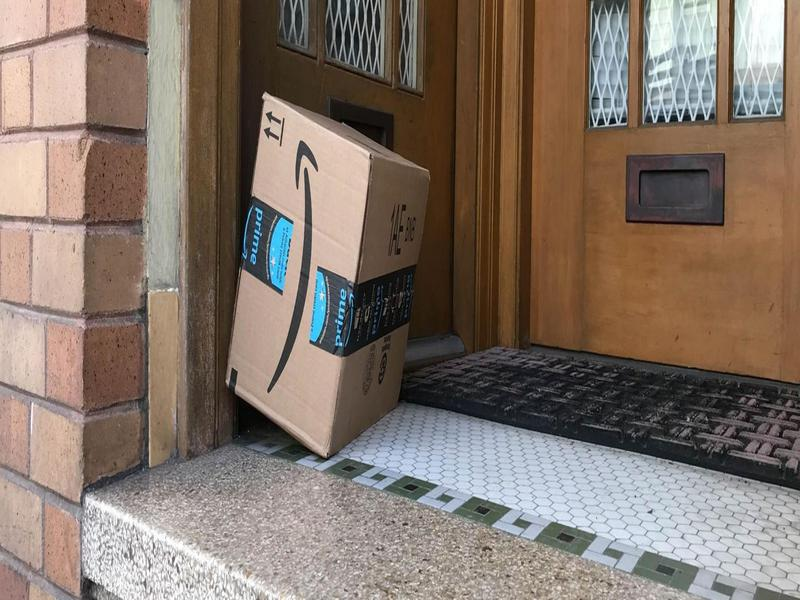package: (217, 81, 440, 470)
